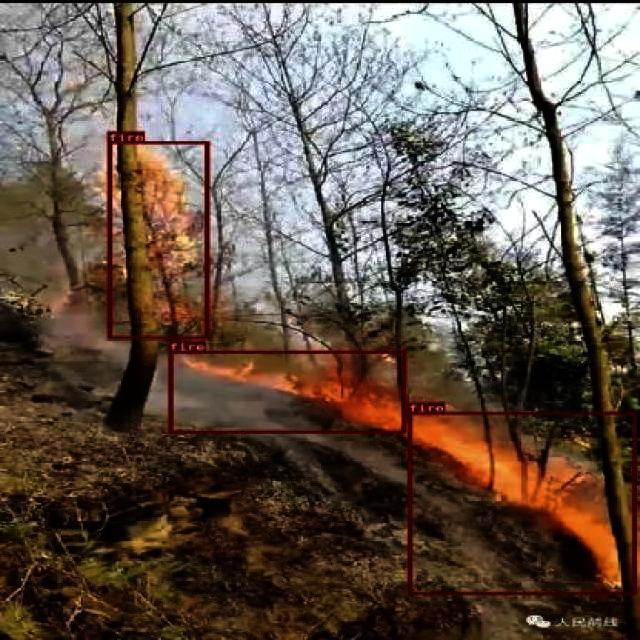fire: (408, 412, 636, 594), (106, 140, 208, 338), (168, 350, 406, 433)
